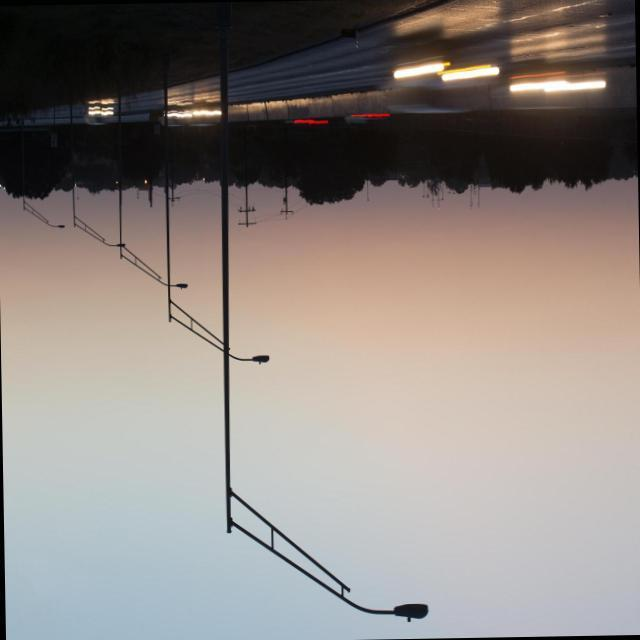off: (195, 441, 428, 624), (165, 293, 290, 374)
